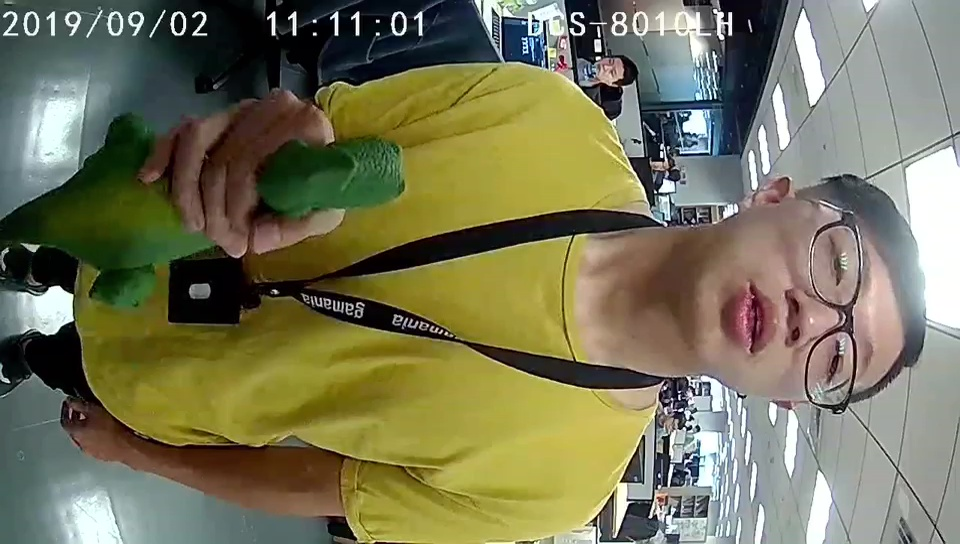rex: (86, 126, 406, 309)
